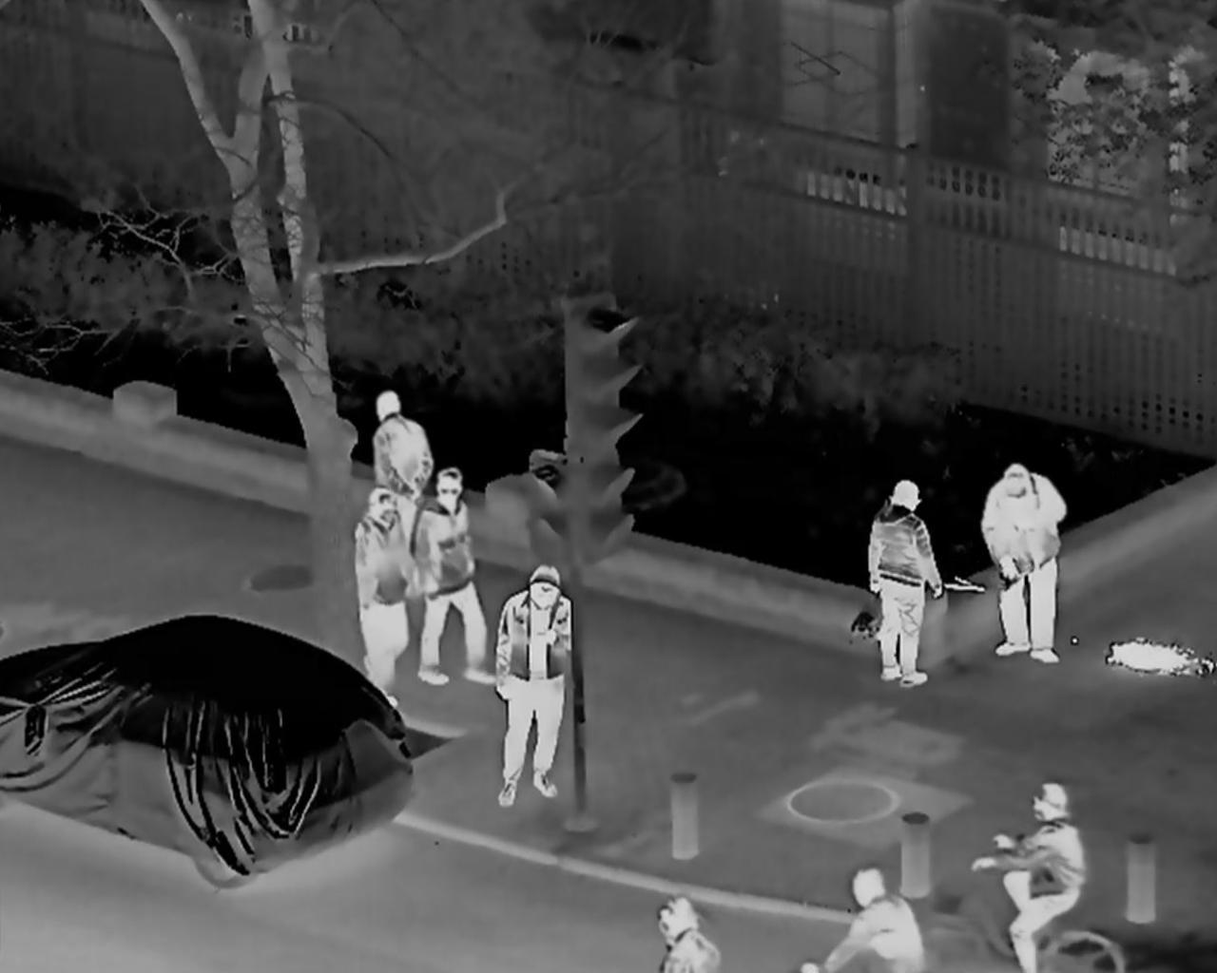person: (976, 779, 1085, 973), (413, 465, 493, 682), (495, 565, 564, 810), (864, 475, 943, 685), (981, 462, 1064, 661), (798, 865, 928, 973), (351, 489, 412, 706), (369, 390, 434, 569), (653, 896, 717, 973)
